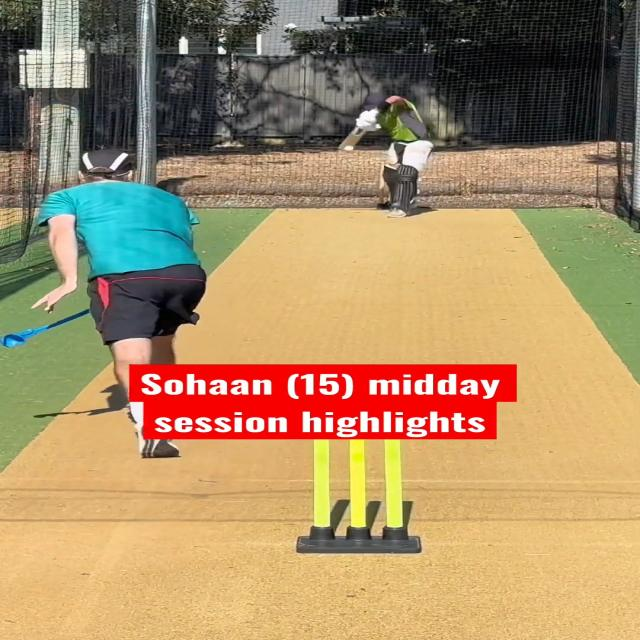stump: (298, 439, 422, 554)
